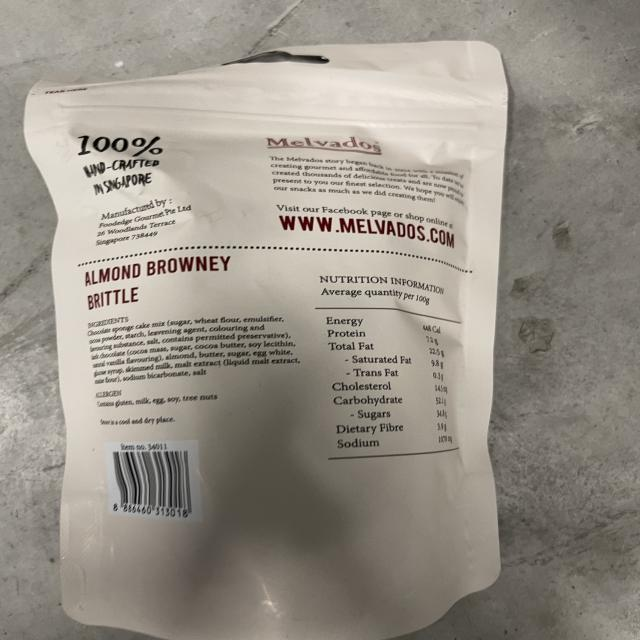object_name: (47, 84, 495, 608)
